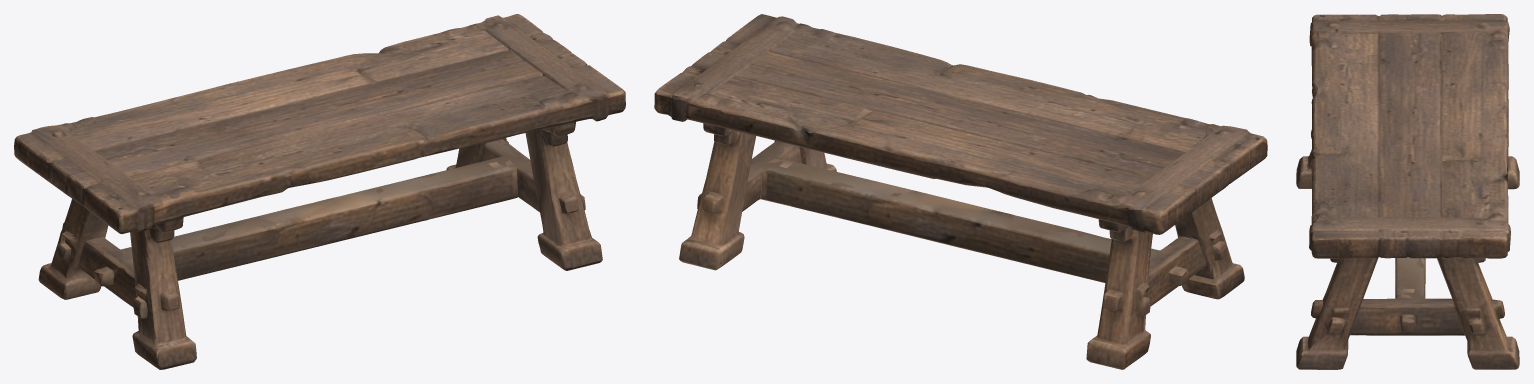
3 renders of one model, left to right at view 1: azimuth 30°, elevation 25°; view 2: azimuth 150°, elevation 25°; view 3: azimuth 270°, elevation 25°, orthographic. The views are drawn at different scales.
Visible parts, largest first — view 1: geometry_0; view 2: geometry_0; view 3: geometry_0.
Part boxes in pixels (<box>): geometry_0: <box>14,14,625,369</box>; geometry_0: <box>654,14,1267,369</box>; geometry_0: <box>1296,14,1519,369</box>.
Bounding box in the file's own units: 1.8 × 0.5618 × 0.7506.
1 material, 1 textured.
